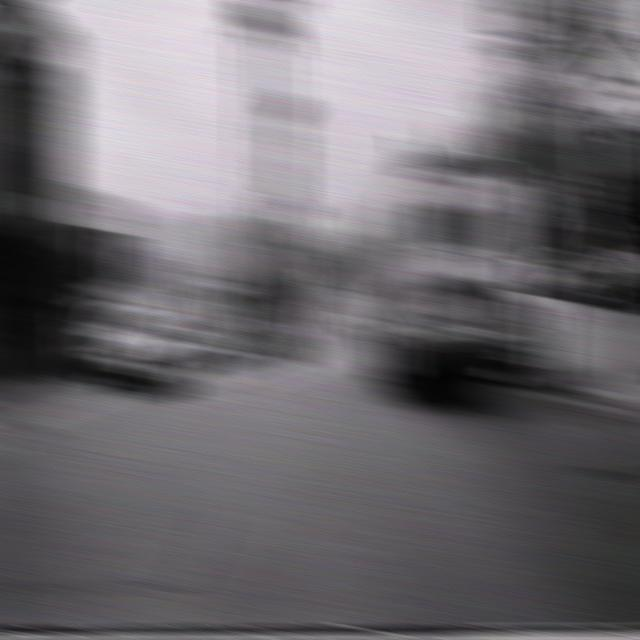speedLimit35: (575, 175, 616, 231)
